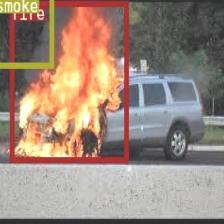fire: (9, 0, 128, 162)
smoke: (0, 0, 53, 67)
